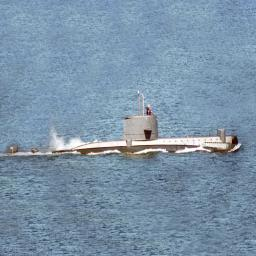submarine: (7, 115, 240, 156)
